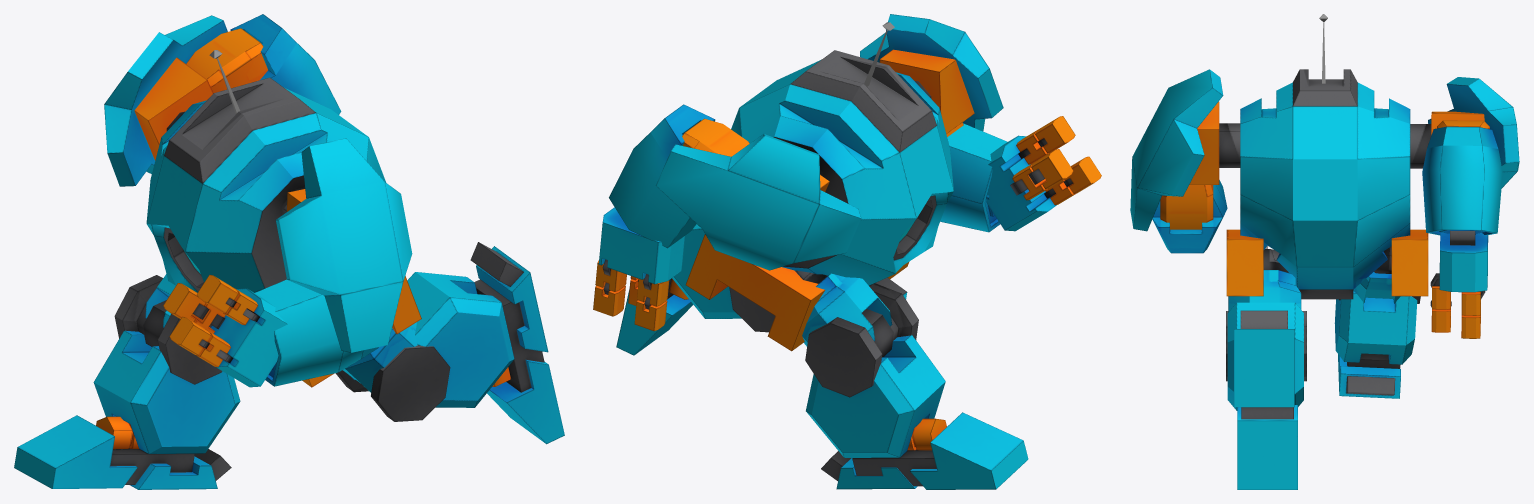
The model's file is Walk36.obj.
The picture shows the model from 3 angles, left to right: view 1: azimuth 30°, elevation 25°; view 2: azimuth 150°, elevation 25°; view 3: azimuth 270°, elevation 25°; orthographic projection. The views are drawn at different scales.
Parts seen in each view (by area): view 1: Plane001, Object006, Object010, Object013, Object002, Object011, Object014, Object008, Object007, Object003, Object012, Object009; view 2: Plane001, Object002, Object010, Object011, Object006, Object008, Object004, Object003, Object007, Object009, Object013, Object014; view 3: Plane001, Object006, Object014, Object003, Object010, Object004, Object002, Object013, Object011, Object007, Object012, Object009 (+2 smaller).
Boxes of the visible parts, left/top/right/bottom form: Plane001: left=146, top=77, right=421, bottom=387; Object006: left=275, top=138, right=412, bottom=352; Object010: left=93, top=275, right=240, bottom=453; Object013: left=336, top=272, right=514, bottom=421; Object002: left=104, top=15, right=267, bottom=186; Object011: left=14, top=415, right=231, bottom=489; Object014: left=470, top=242, right=564, bottom=444; Object008: left=163, top=274, right=287, bottom=387; Object007: left=255, top=279, right=378, bottom=386; Object003: left=230, top=14, right=341, bottom=114; Object012: left=343, top=322, right=417, bottom=392; Object009: left=145, top=274, right=175, bottom=327; Plane001: left=685, top=50, right=953, bottom=351; Object002: left=656, top=118, right=861, bottom=270; Object010: left=805, top=283, right=945, bottom=457; Object011: left=821, top=412, right=1028, bottom=489; Object006: left=860, top=14, right=1003, bottom=136; Object008: left=986, top=116, right=1101, bottom=231; Object004: left=593, top=207, right=684, bottom=331; Object003: left=609, top=104, right=715, bottom=248; Object007: left=940, top=123, right=1007, bottom=232; Object009: left=794, top=270, right=892, bottom=346; Object013: left=672, top=224, right=775, bottom=332; Object014: left=616, top=278, right=693, bottom=355; Plane001: left=1226, top=69, right=1428, bottom=299; Object006: left=1130, top=69, right=1223, bottom=231; Object014: left=1234, top=310, right=1297, bottom=489; Object003: left=1422, top=126, right=1502, bottom=235; Object010: left=1334, top=291, right=1420, bottom=364; Object004: left=1430, top=230, right=1488, bottom=338; Object002: left=1428, top=77, right=1519, bottom=188; Object013: left=1226, top=302, right=1306, bottom=410; Object011: left=1338, top=353, right=1400, bottom=398; Object007: left=1152, top=180, right=1227, bottom=253; Object012: left=1228, top=249, right=1301, bottom=311; Object009: left=1353, top=246, right=1400, bottom=303.
Bounding box in the file's own units: 206 × 196 × 182.
